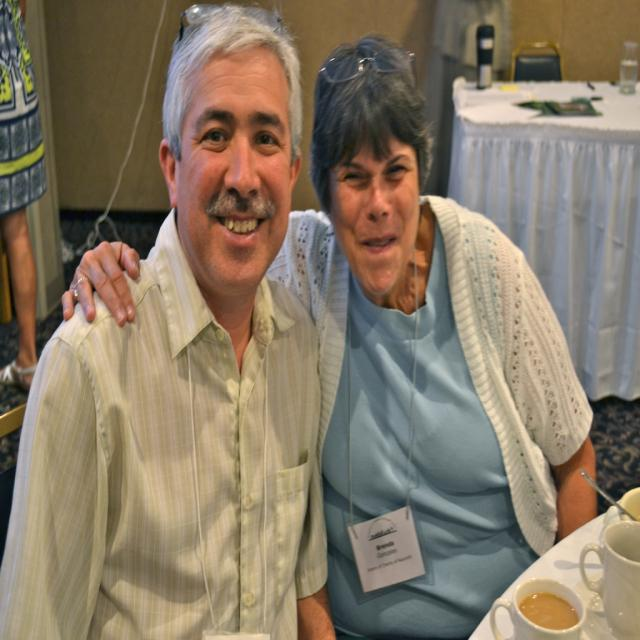Coffee: (518, 589, 580, 627)
Tea: (519, 593, 580, 629)
